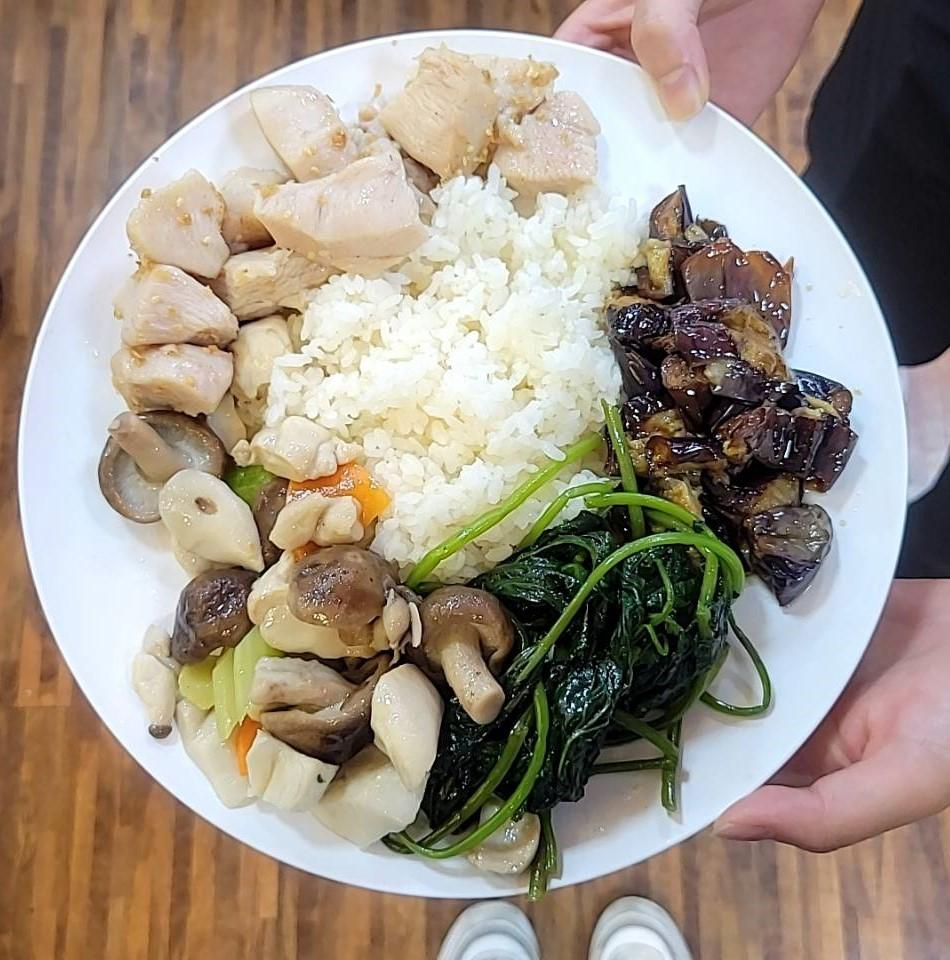big fried chicken leg: (20, 26, 927, 906)
big herbal chicken leg: (282, 188, 622, 572)
braised fish fillet: (82, 432, 511, 845), (423, 489, 744, 855), (630, 184, 859, 608)
braised pork: (115, 50, 604, 423)
